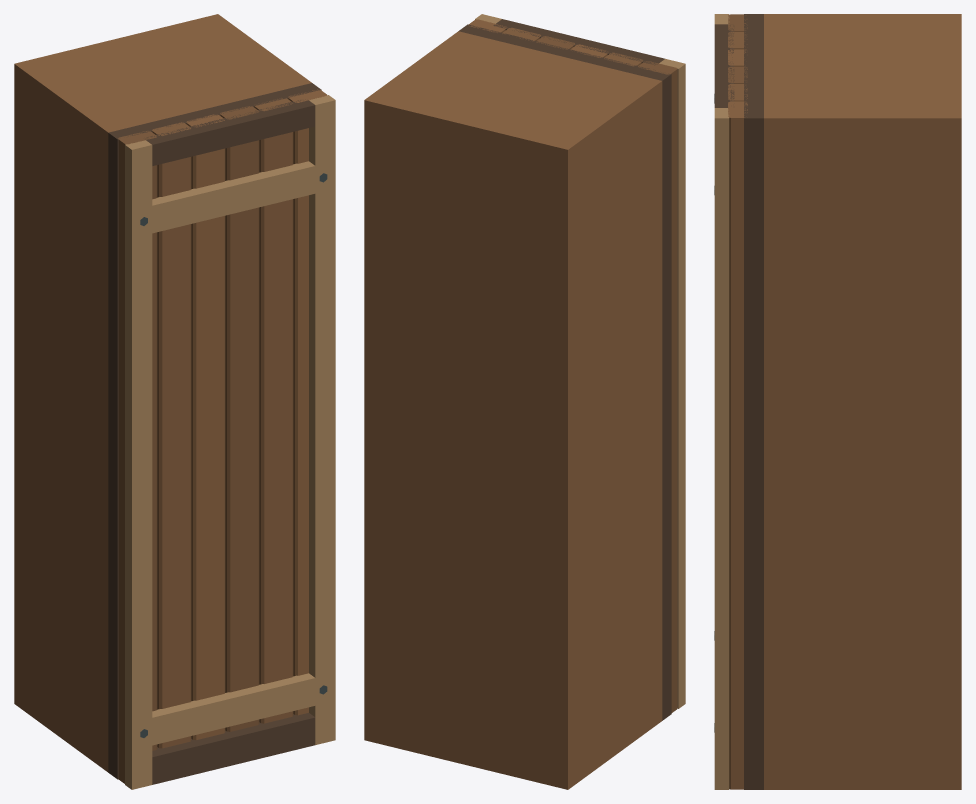
Rendered from wall_barn_a.glb.
3 renders of one model, left to right at view 1: azimuth 30°, elevation 25°; view 2: azimuth 150°, elevation 25°; view 3: azimuth 270°, elevation 25°, orthographic. The views are drawn at different scales.
Visible parts, largest first — view 1: face_front, geometry; view 2: geometry, face_front; view 3: geometry, face_front.
Part boxes in pixels (bbox=[...]): face_front: bbox=[108, 83, 335, 789]; geometry: bbox=[14, 14, 311, 772]; geometry: bbox=[364, 31, 662, 789]; face_front: bbox=[458, 14, 685, 720]; geometry: bbox=[764, 14, 961, 789]; face_front: bbox=[714, 14, 763, 789].
Size of the model in its own units: 1 by 3 by 1.
